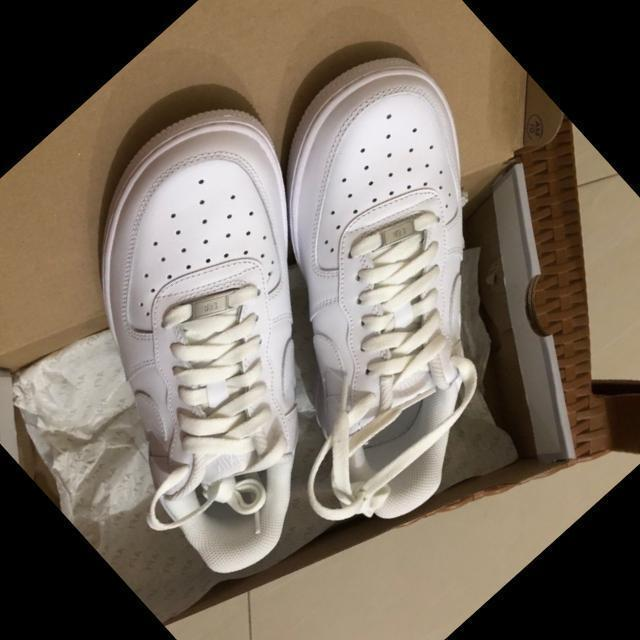nike original air force: (107, 20, 640, 558), (0, 70, 482, 598)
